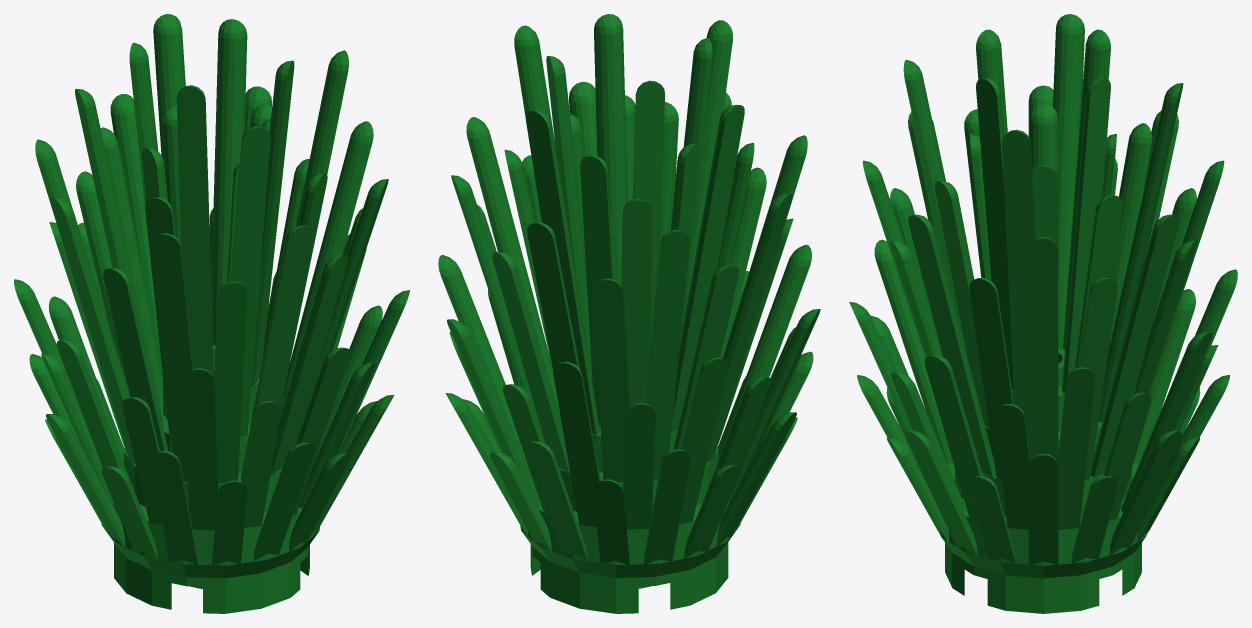
File: bush.fbx
3 views of the same model, side by side, from view 1: azimuth 30°, elevation 25°; view 2: azimuth 150°, elevation 25°; view 3: azimuth 270°, elevation 25° (orthographic).
Parts seen in each view (by area): view 1: Part.97; view 2: Part.97; view 3: Part.97.
Part boxes in pixels (x1,y1,x2,y2): Part.97: (14,14,409,613); Part.97: (438,14,820,613); Part.97: (849,14,1237,613).
Bounding box in the file's own units: 158 × 232 × 158.
